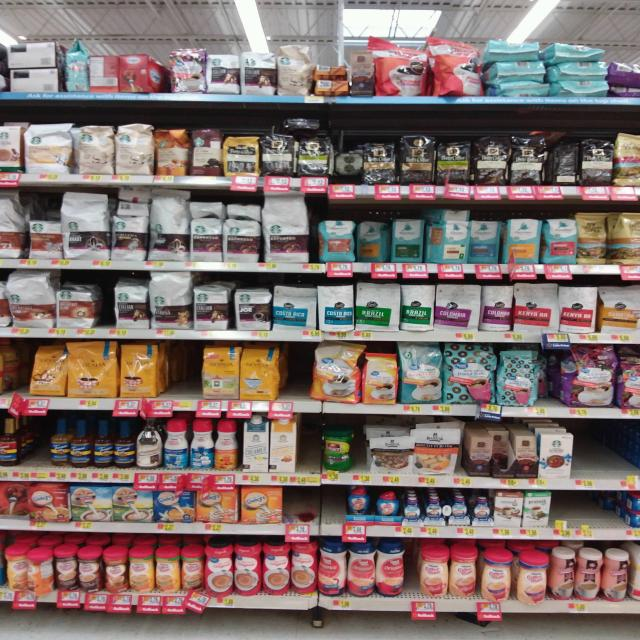void: (578, 419, 608, 490), (280, 341, 308, 413), (0, 342, 28, 411), (155, 340, 181, 411), (613, 421, 637, 489), (21, 413, 45, 480), (282, 486, 314, 535), (540, 348, 559, 418), (608, 494, 636, 541), (555, 490, 581, 540), (298, 418, 316, 484), (95, 275, 114, 337), (317, 486, 341, 535), (583, 494, 607, 540), (150, 40, 168, 99)
